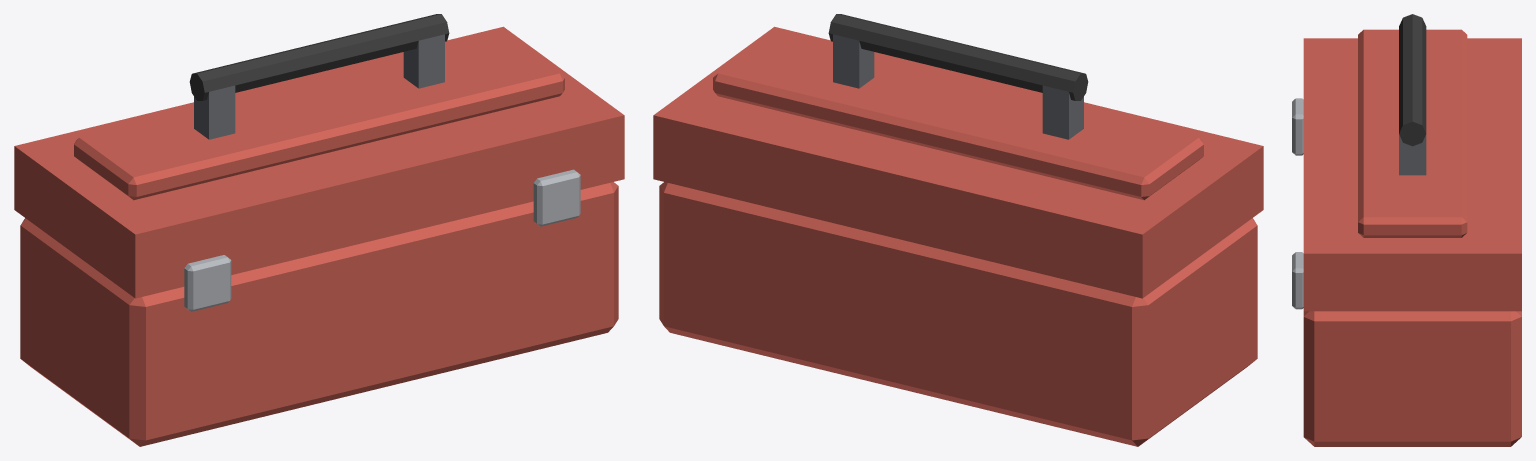
Rendered from Garage_Toolbox.glb.
3 views of the same model, side by side, from view 1: azimuth 30°, elevation 25°; view 2: azimuth 150°, elevation 25°; view 3: azimuth 270°, elevation 25° (orthographic). The views are drawn at different scales.
Visible parts, largest first — view 1: Garage_Toolbox; view 2: Garage_Toolbox; view 3: Garage_Toolbox.
Boxes of the visible parts, bbox=[...] form: Garage_Toolbox: bbox=[14, 14, 624, 446]; Garage_Toolbox: bbox=[653, 14, 1263, 446]; Garage_Toolbox: bbox=[1292, 14, 1521, 446].
Bounding box in the file's own units: 0.56 × 0.335 × 0.2525.
